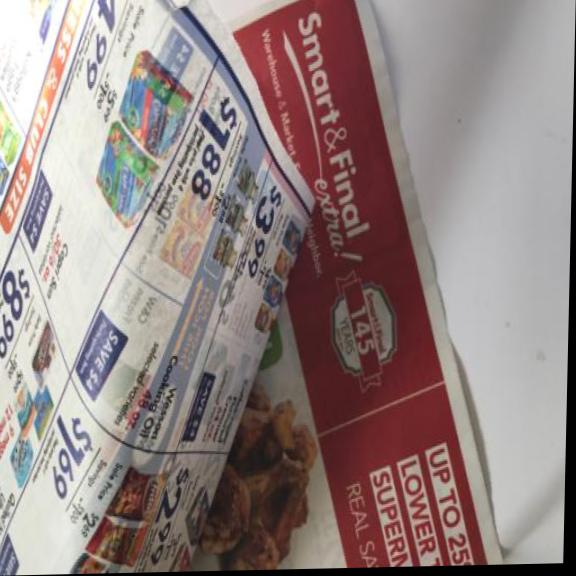Kertas: (0, 0, 315, 576), (221, 0, 517, 571)
